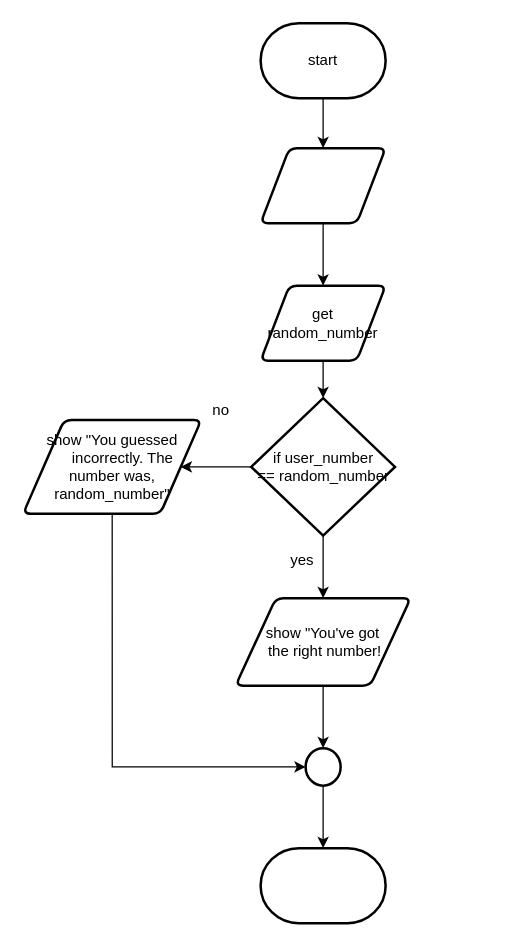
Some shapes in this 511 by 945 pixel diagram are drawn without their labels. Each missing label, with the centre of its shape:
"get user_number" belongs at (x=322, y=185).
"stop" belongs at (x=322, y=885).
